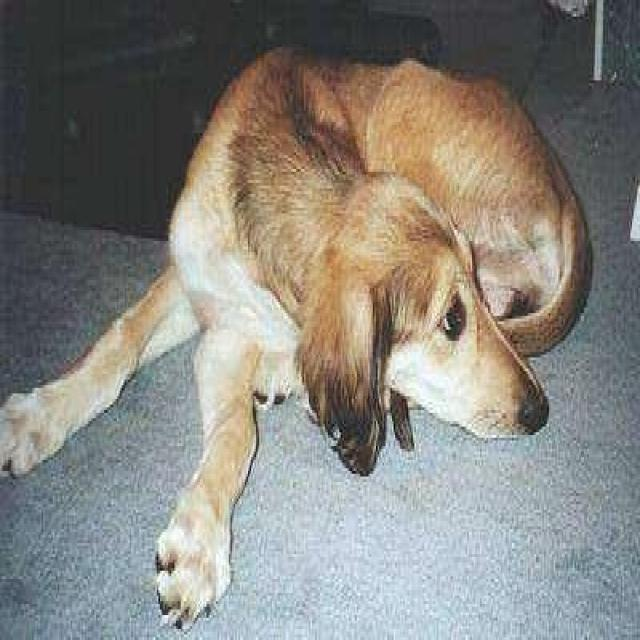saluki: (1, 39, 596, 629)
